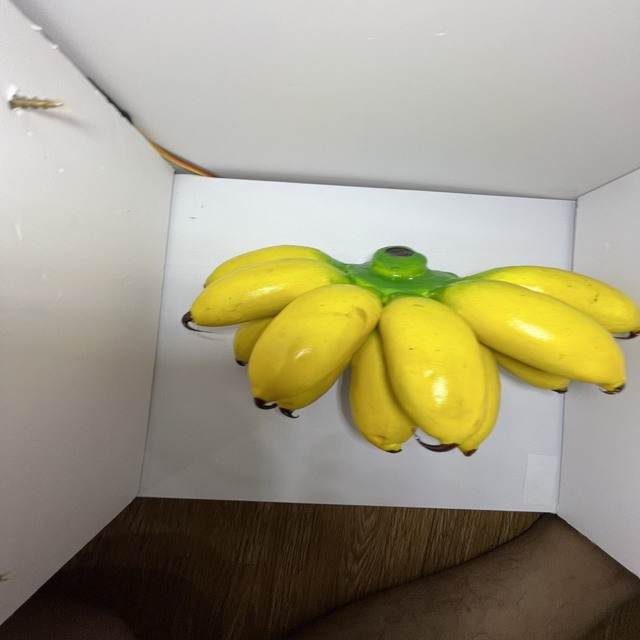Chuoi: (177, 240, 640, 463)
